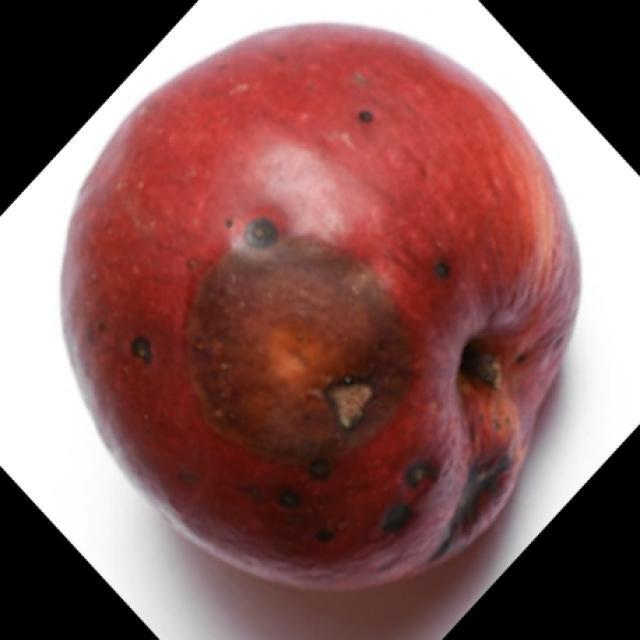Rotten: (59, 30, 544, 593)
